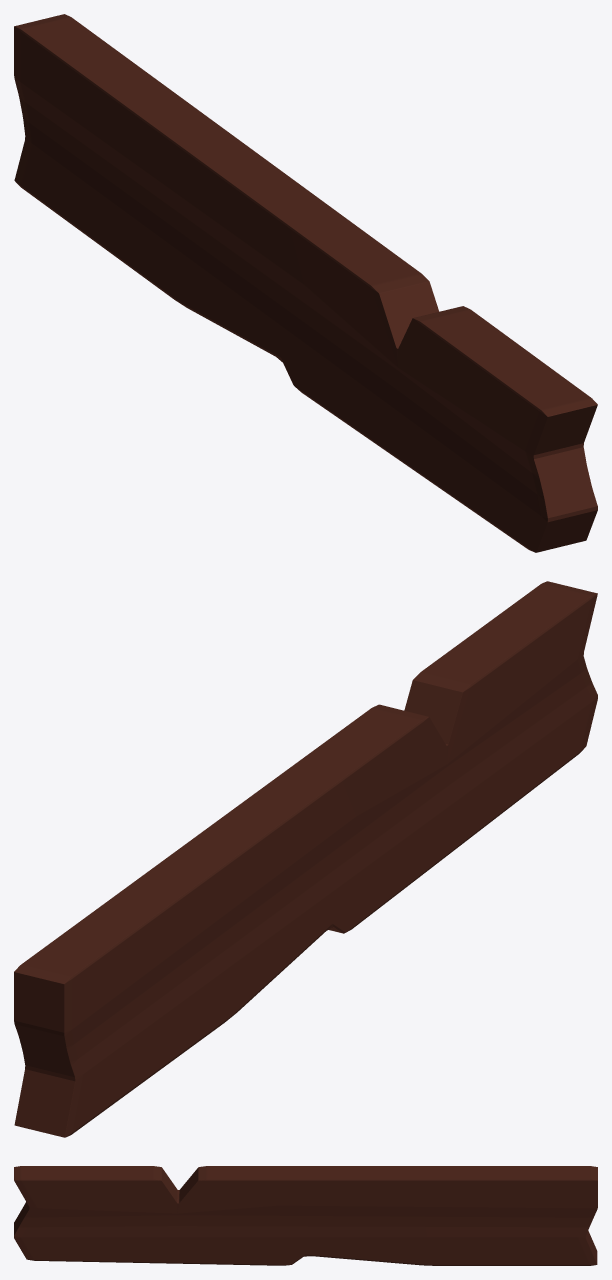
File: Plank2.fbx
The picture shows the model from 3 angles, top to bottom: view 1: azimuth 30°, elevation 25°; view 2: azimuth 150°, elevation 25°; view 3: azimuth 270°, elevation 25°; orthographic projection. The views are drawn at different scales.
Parts seen in each view (by area): view 1: PlankChipped.001; view 2: PlankChipped.001; view 3: PlankChipped.001.
Boxes of the visible parts, x1=… form: PlankChipped.001: x1=14, y1=14, x2=597, y2=552; PlankChipped.001: x1=14, y1=581, x2=597, y2=1137; PlankChipped.001: x1=14, y1=1166, x2=597, y2=1265.
Size of the model in its own units: 0.0593 by 0.00332 by 0.0097.
